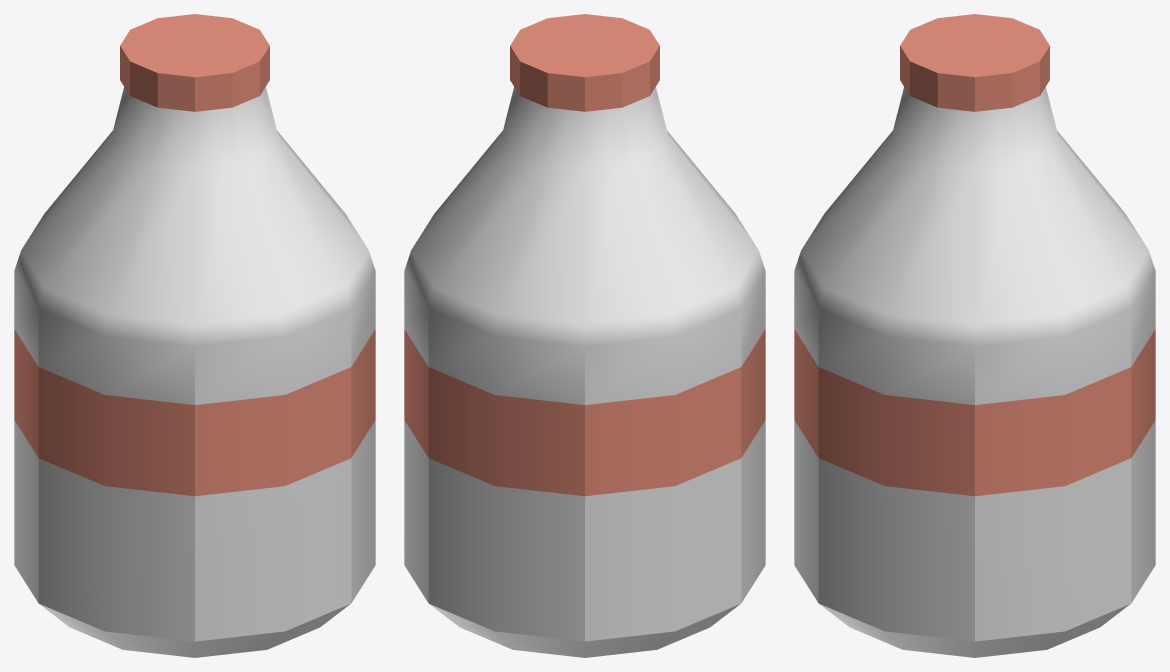
File: Ürün51.fbx
3 renders of one model, left to right at view 1: azimuth 30°, elevation 25°; view 2: azimuth 150°, elevation 25°; view 3: azimuth 270°, elevation 25°, orthographic.
Parts seen in each view (by area): view 1: pCylinder31; view 2: pCylinder31; view 3: pCylinder31.
Part boxes in pixels (<box>): pCylinder31: <box>14,14,375,657</box>; pCylinder31: <box>404,14,765,657</box>; pCylinder31: <box>794,14,1155,657</box>.
Bounding box in the file's own units: 22.2 × 37.39 × 22.2.
